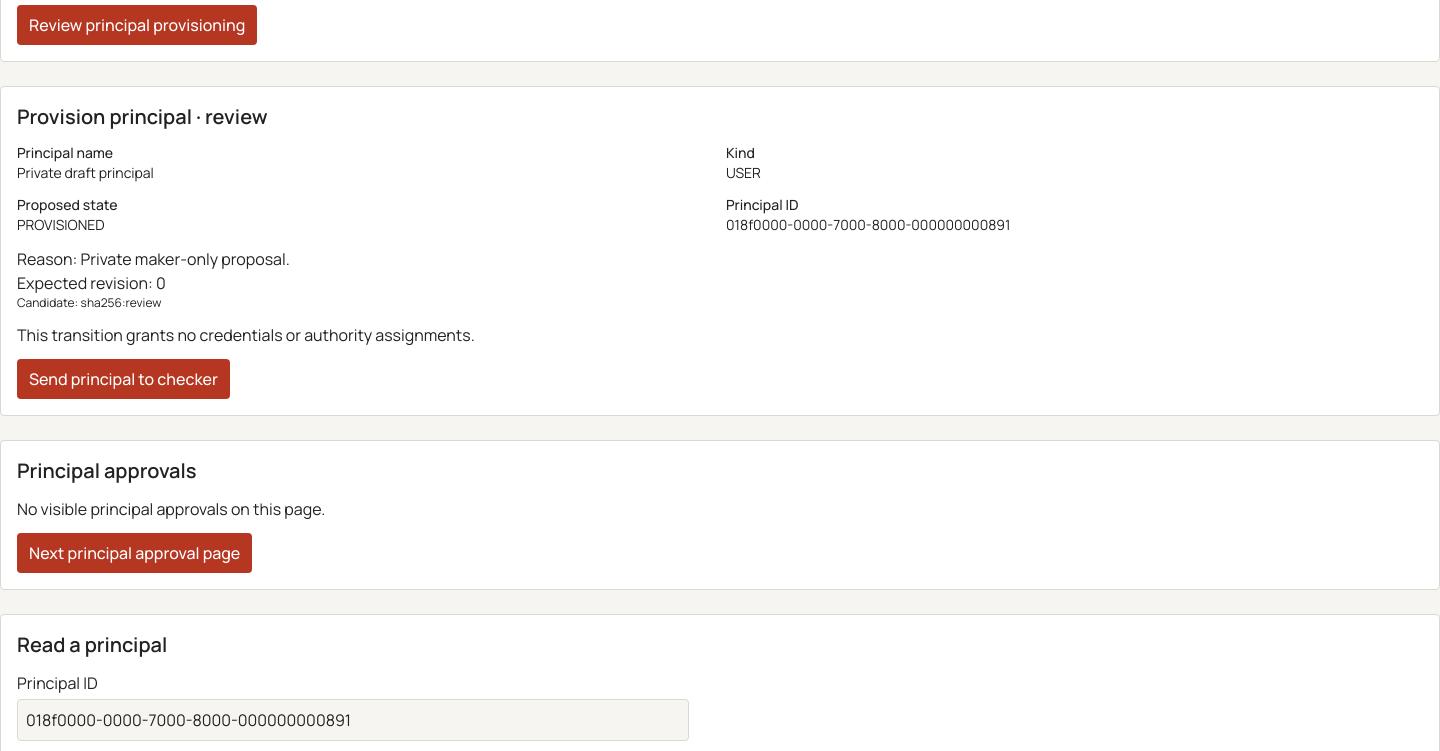
drops an old approval cursor and saved selection when refreshed Identity reports a different actor
(page scrolled)
Expected: the text "Private draft principal" is shown, [17,162,154,182]
Click the button "Next principal approval page" at (135, 552), box [17,532,252,572]
(page scrolled)
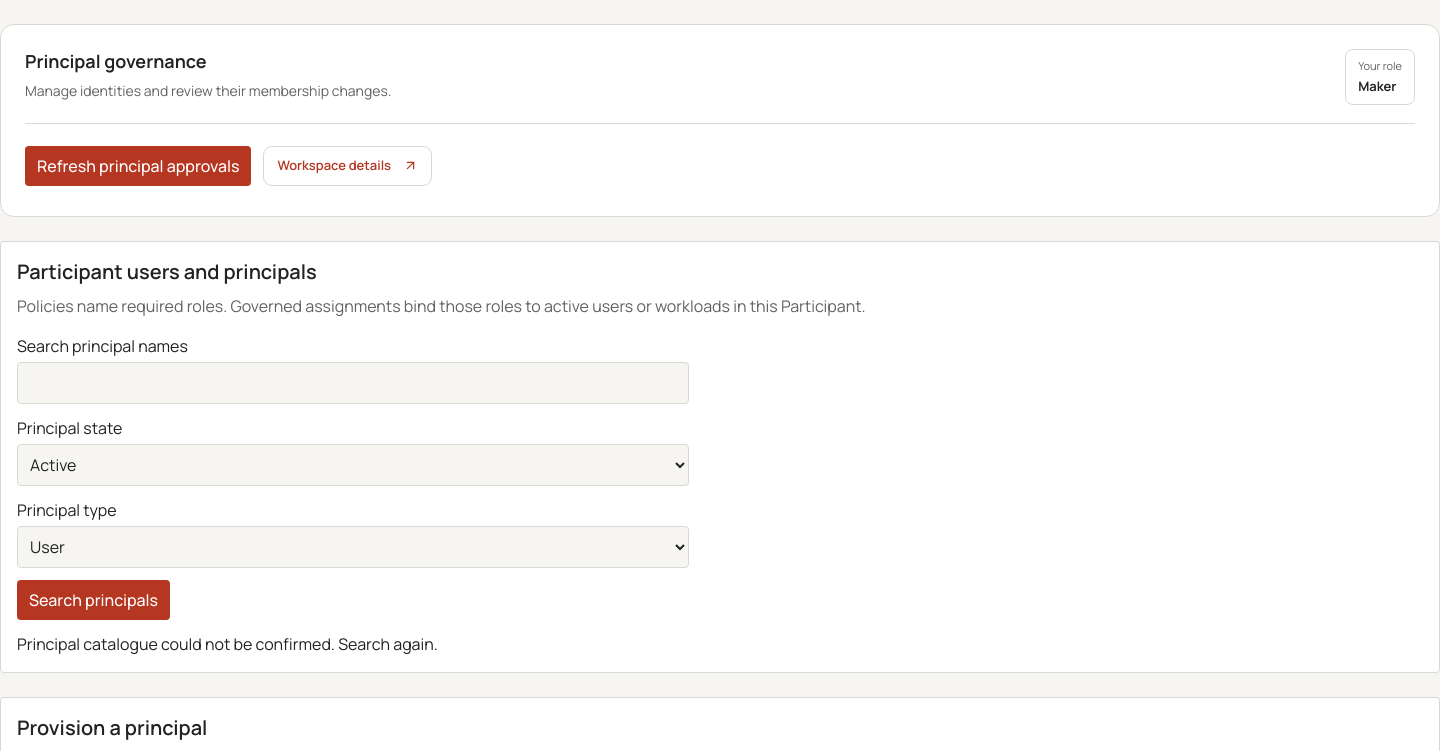
Click the button "Workspace details" at (348, 166), box [263,146,432,186]
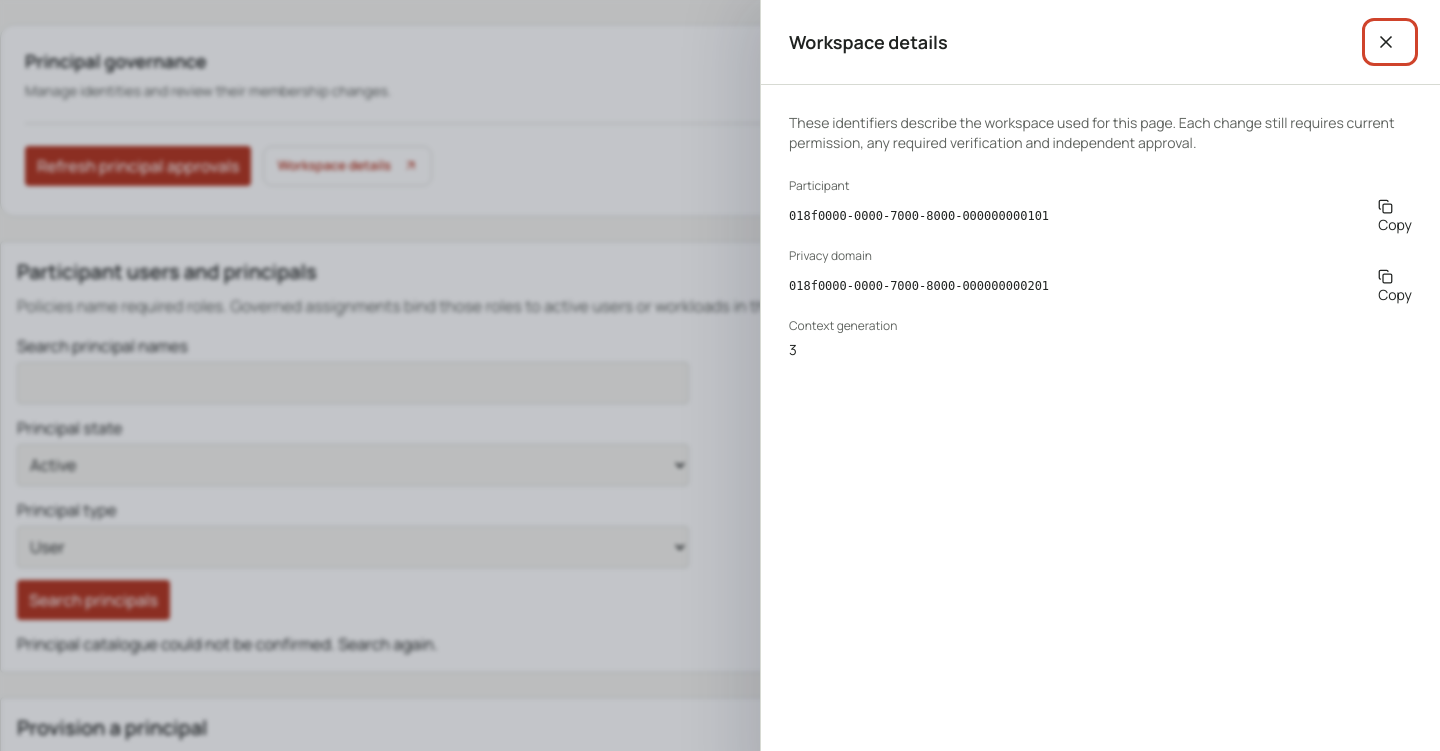
Now the text "3" is shown, box [789,340,797,359]
Click the button named "Close Workspace details" at (1390, 42), box [1368,24,1412,60]
(page scrolled)
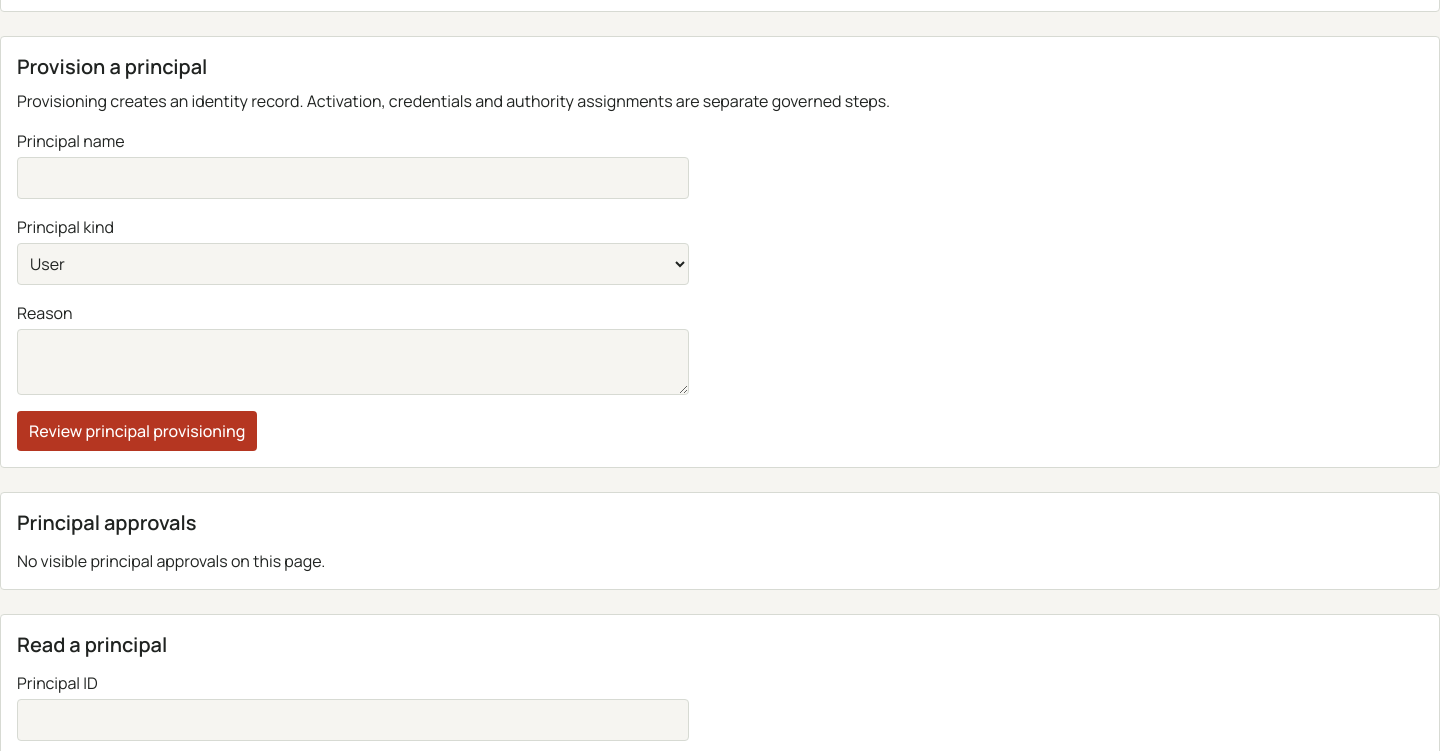
Expected: the text "Private draft principal" is not shown
Now the field labelled "Principal ID" is empty, box [17,698,689,740]
